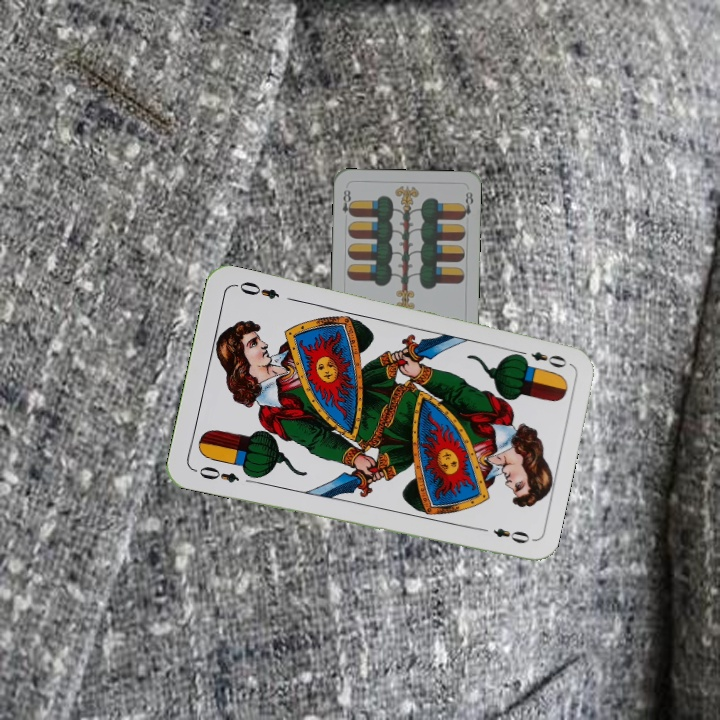E8: (338, 185, 355, 219)
EO: (512, 346, 570, 371), (195, 462, 242, 486)
